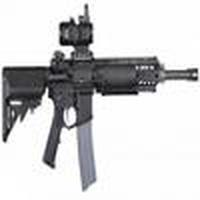gun: (3, 8, 200, 141)
